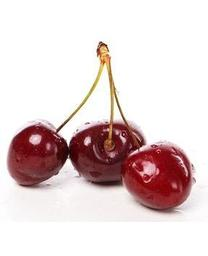cherry: (69, 118, 147, 184), (123, 140, 193, 211), (7, 118, 69, 187)
